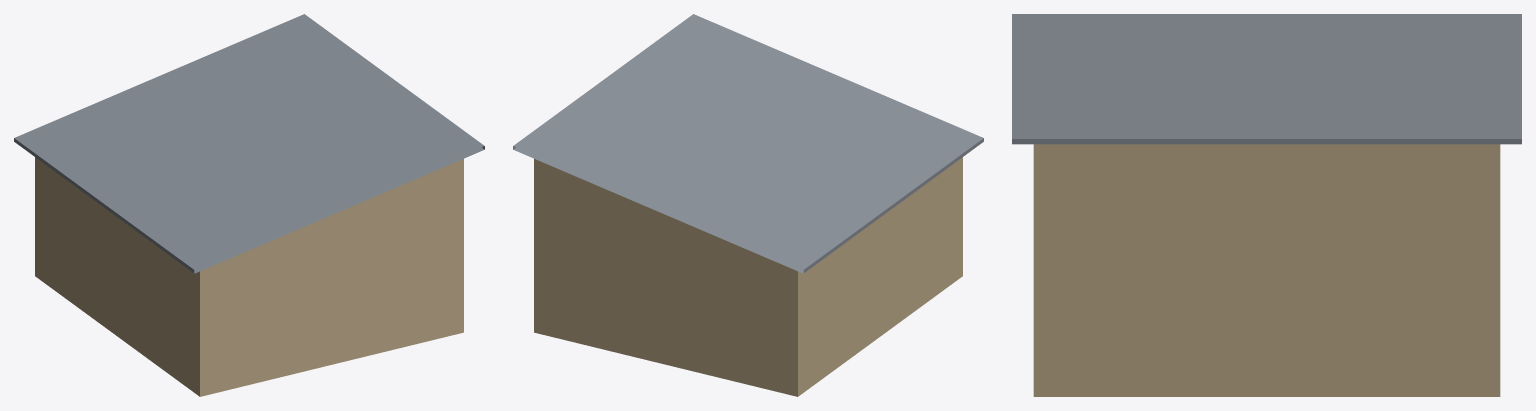
Rendered from top-prebuilt_far.fbx.
3 views of the same model, side by side, from view 1: azimuth 30°, elevation 25°; view 2: azimuth 150°, elevation 25°; view 3: azimuth 270°, elevation 25° (orthographic). The views are drawn at different scales.
Visible parts, largest first — view 1: a2015/0/top-prebuilt_far; view 2: a2015/0/top-prebuilt_far; view 3: a2015/0/top-prebuilt_far.
Boxes of the visible parts, <box> form: a2015/0/top-prebuilt_far: <box>14,14,484,396</box>; a2015/0/top-prebuilt_far: <box>513,14,983,396</box>; a2015/0/top-prebuilt_far: <box>1012,14,1521,396</box>.
Bounding box in the file's own units: 6.6 × 4.1 × 7.1.
